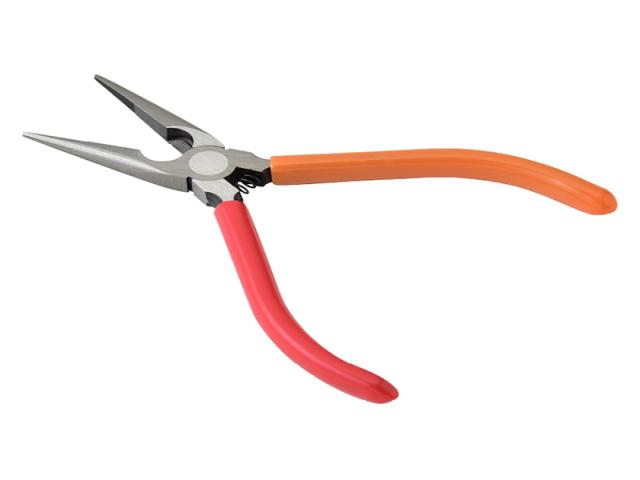Needle-nose pliers: (24, 75, 618, 403)
